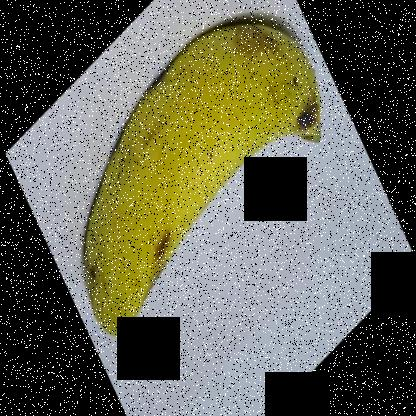freshripe: (72, 2, 330, 361)
